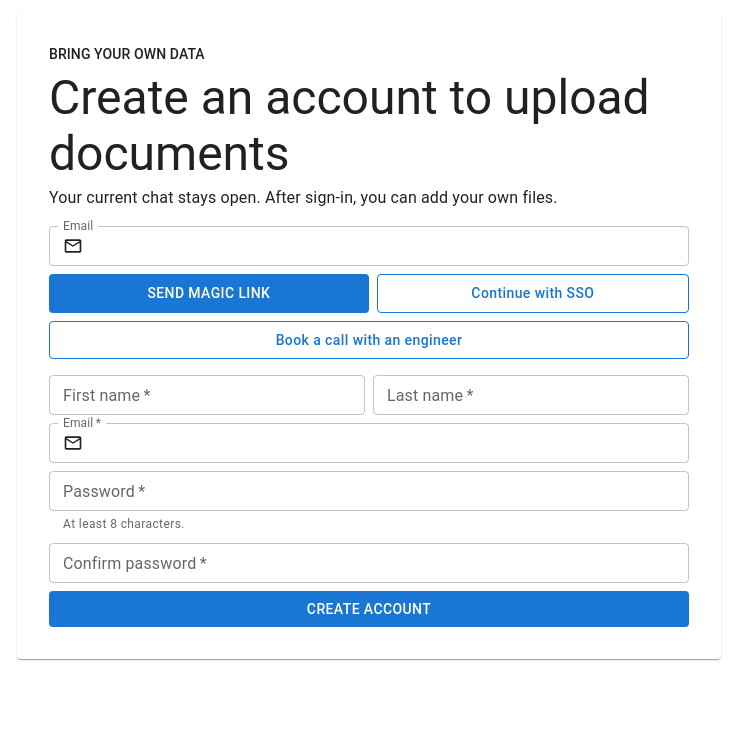
Test case: SignUpWidget › surfaces server-side error inline without clearing typed values
The image size is (739, 734).
Type "Pat" into the field with test id "signup-first-input" at (207, 395), box [49,375,365,415]
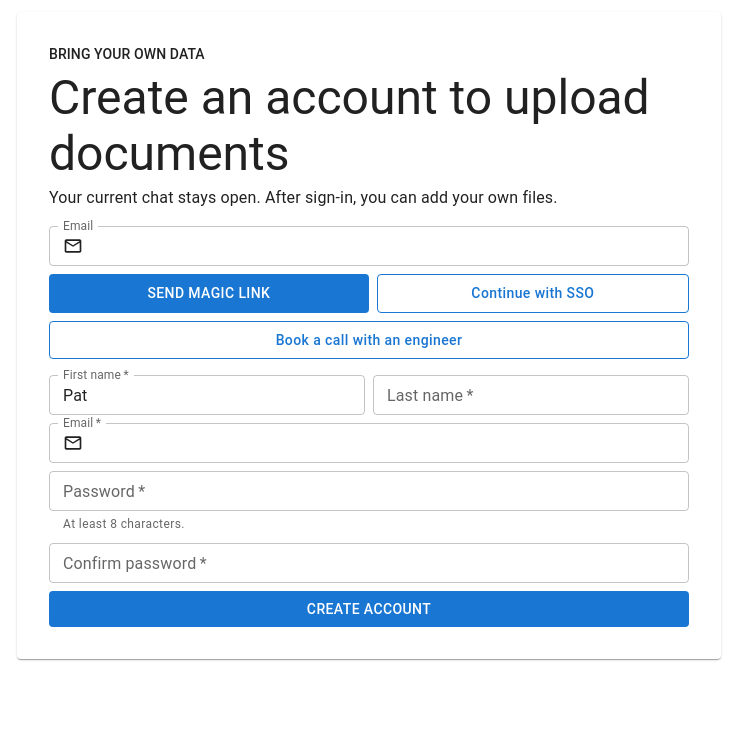
Type "Lee" into the field with test id "signup-last-input" at (531, 395), box [373,375,689,415]
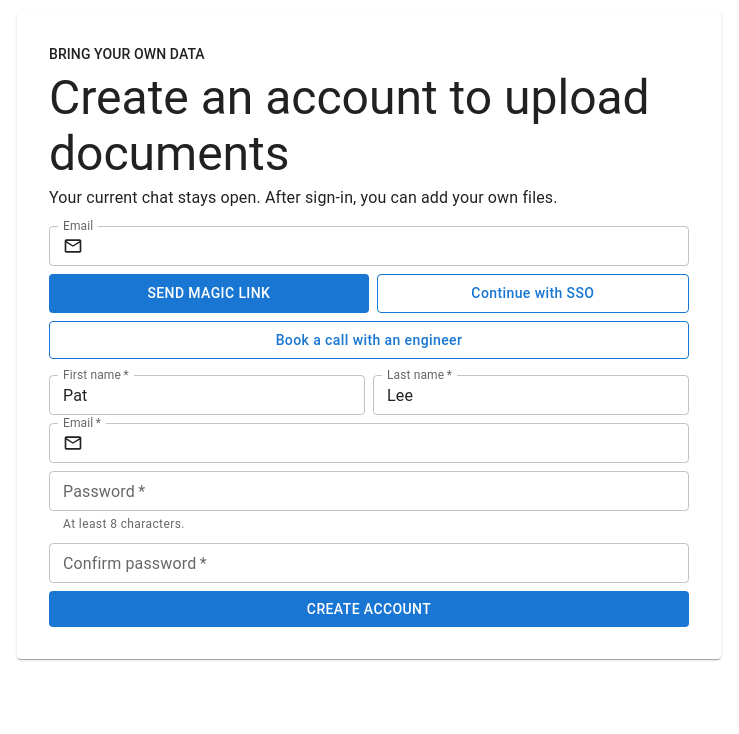
Type "pat@example.com" into the field with test id "signup-email-input" at (390, 443), box [91,423,689,463]
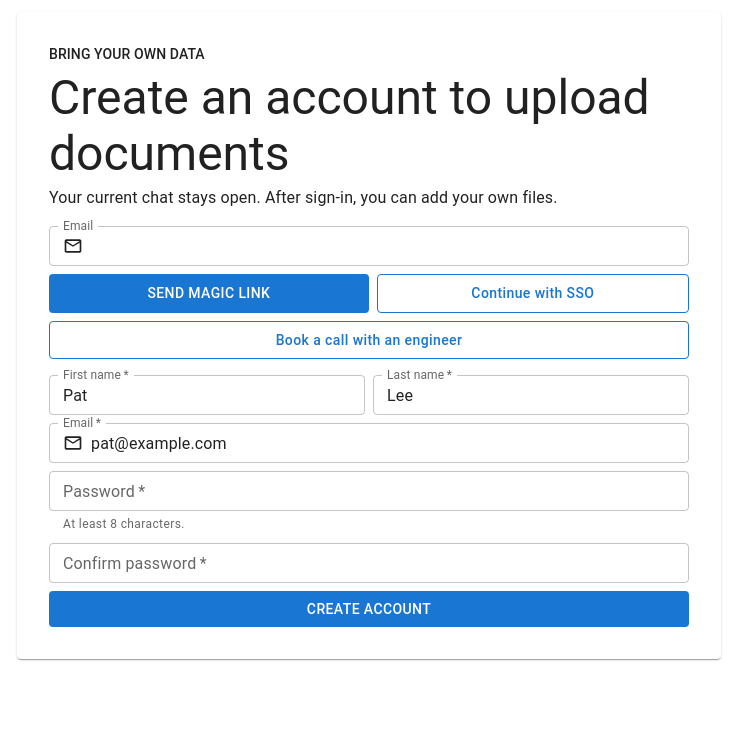
Type "longenoughpw" into the password field with test id "signup-password-input" at (369, 491), box [49,471,689,511]
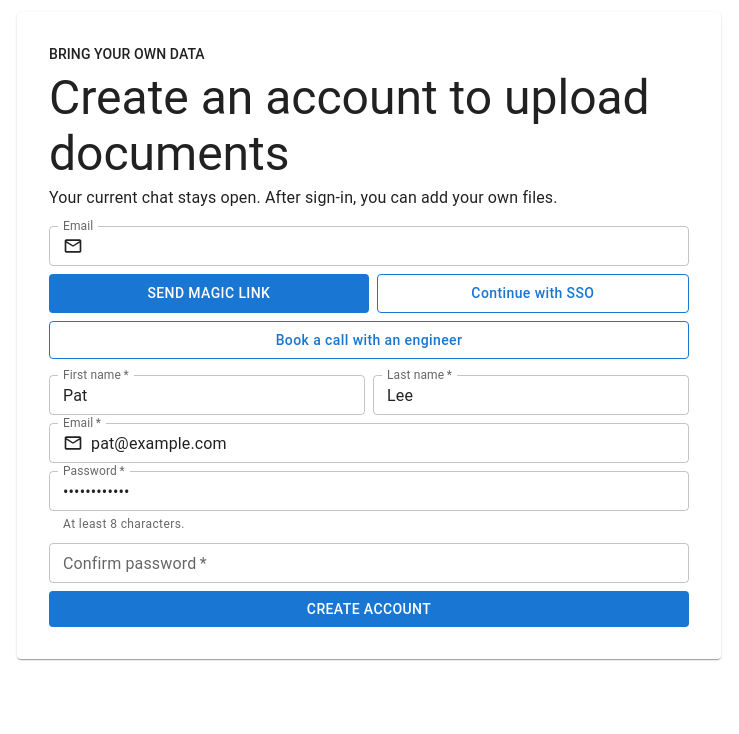
Type "longenoughpw" into the password field with test id "signup-confirm-input" at (369, 563), box [49,543,689,583]
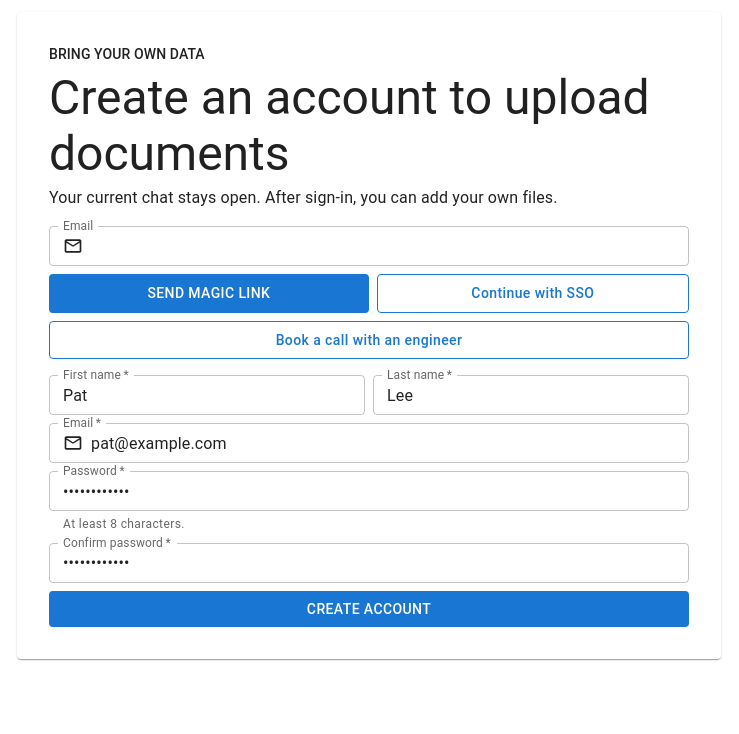
Click the button with test id "signup-submit" at (369, 609), box [49,591,689,627]
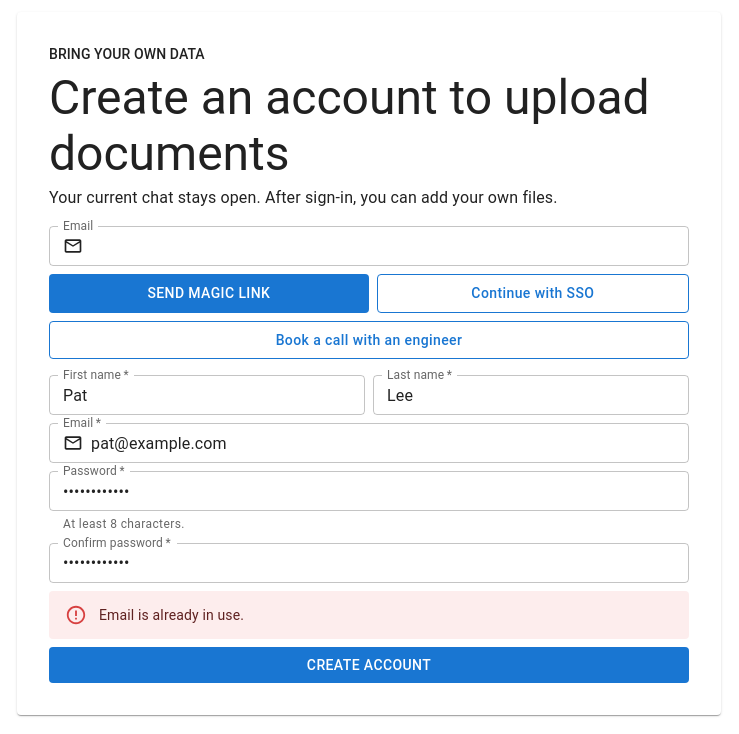
Expected: the message with test id "signup-error" shows "already in use", [99,607,244,623]
